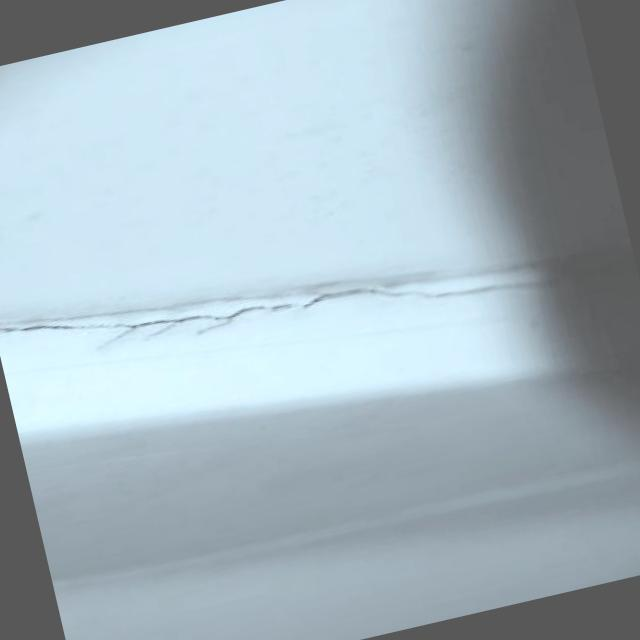crack: (0, 283, 178, 365), (364, 250, 542, 328), (180, 274, 367, 335)
